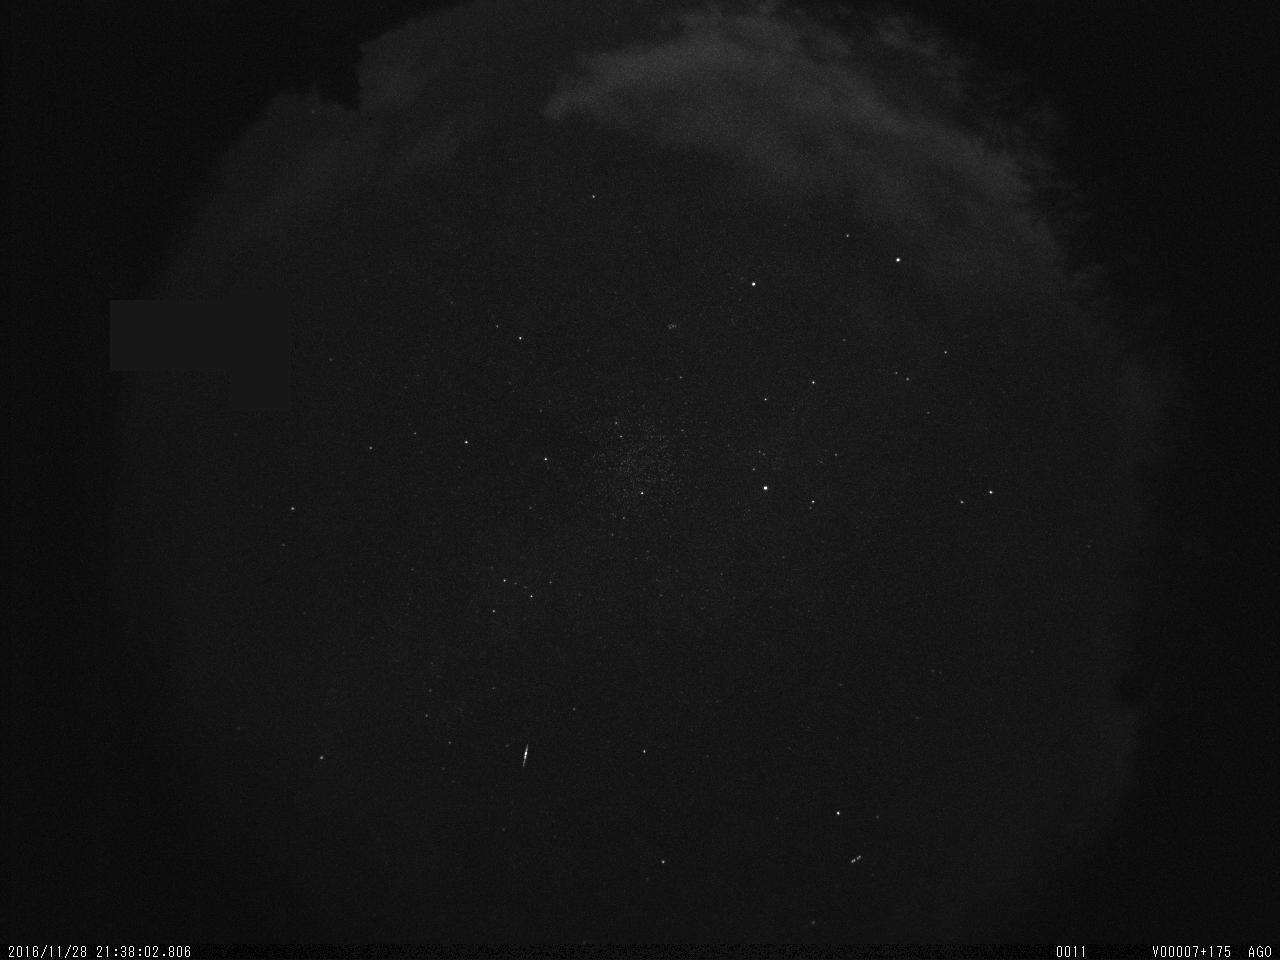Meteor: (518, 738, 532, 772)
